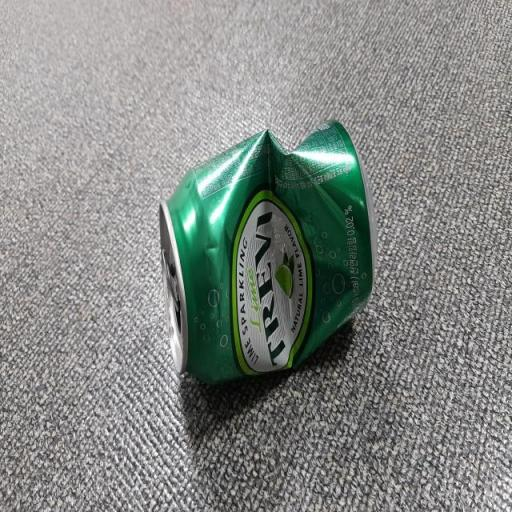metal: (144, 100, 387, 405)
